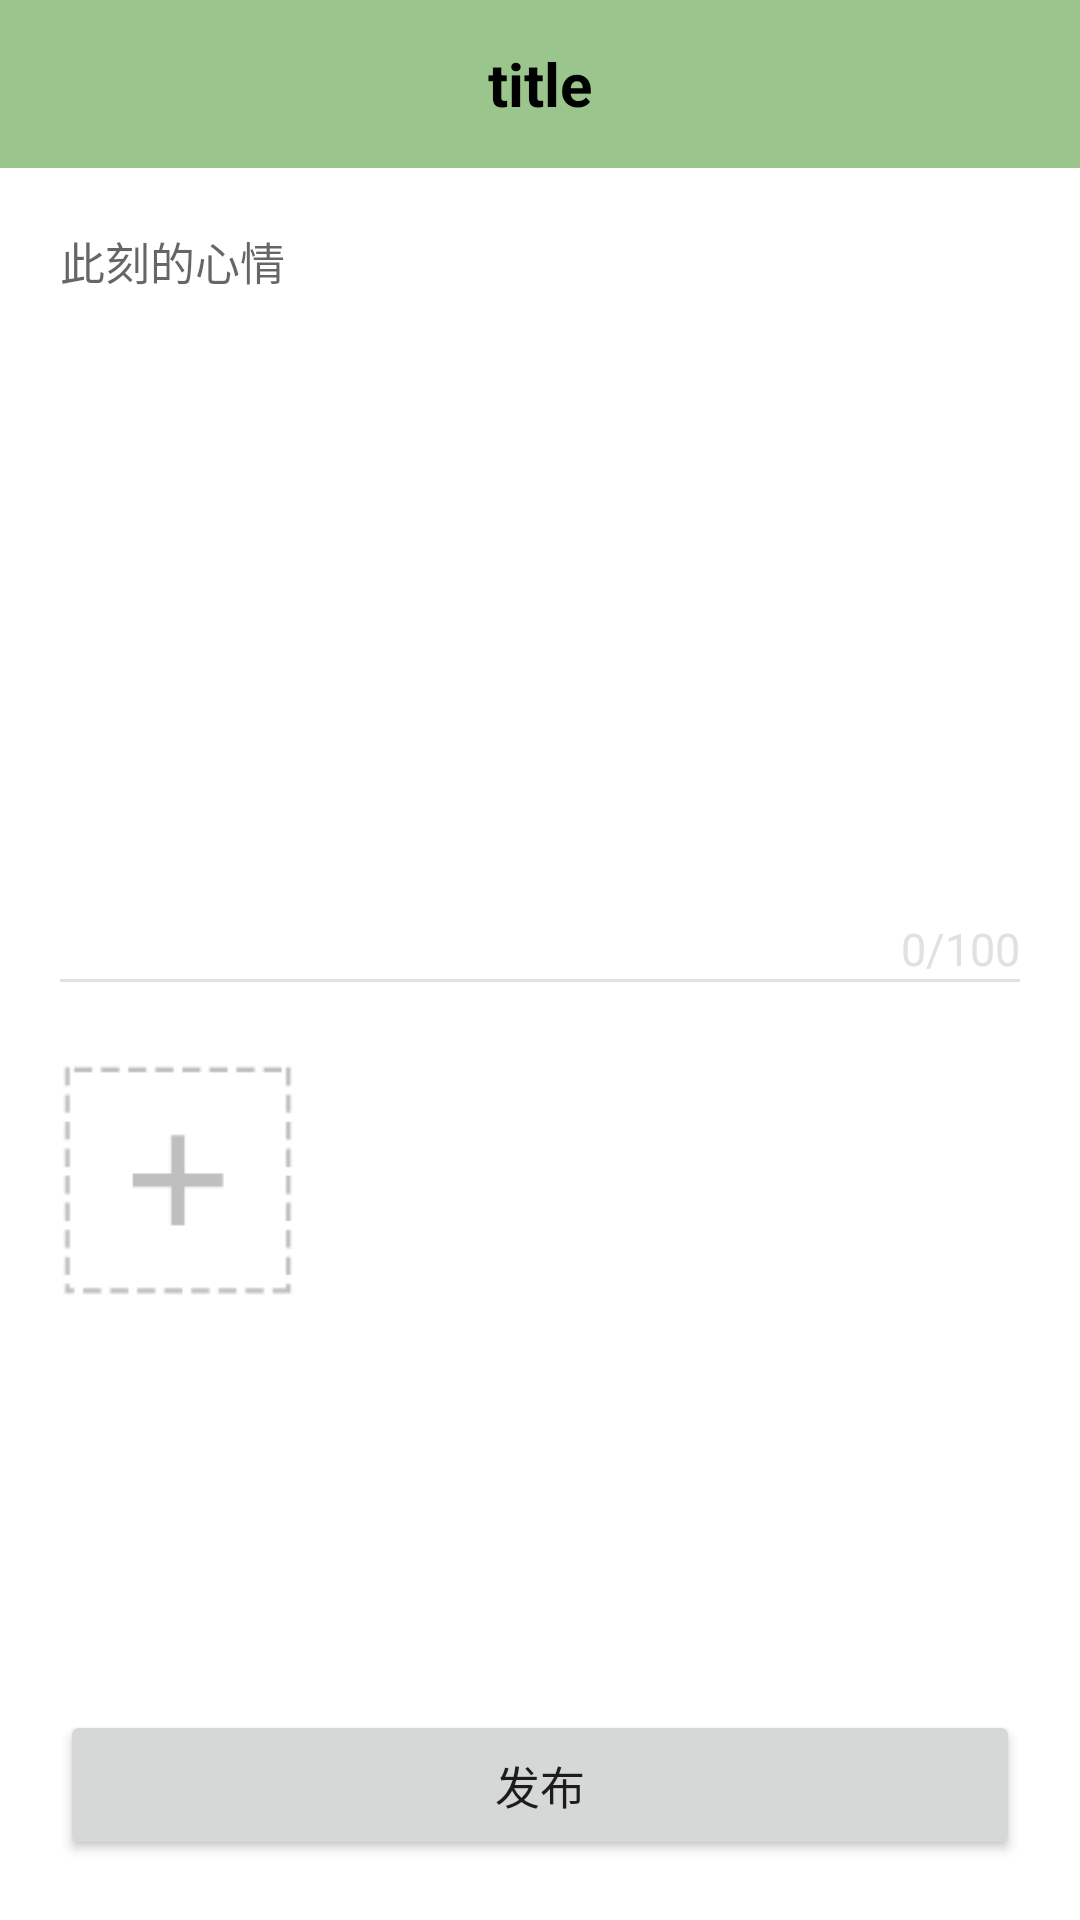

Screen size 1080 × 1920. Icon name, then its box in pixels as (x1, y1, x2, y2):
add: (65, 1067, 291, 1294)
